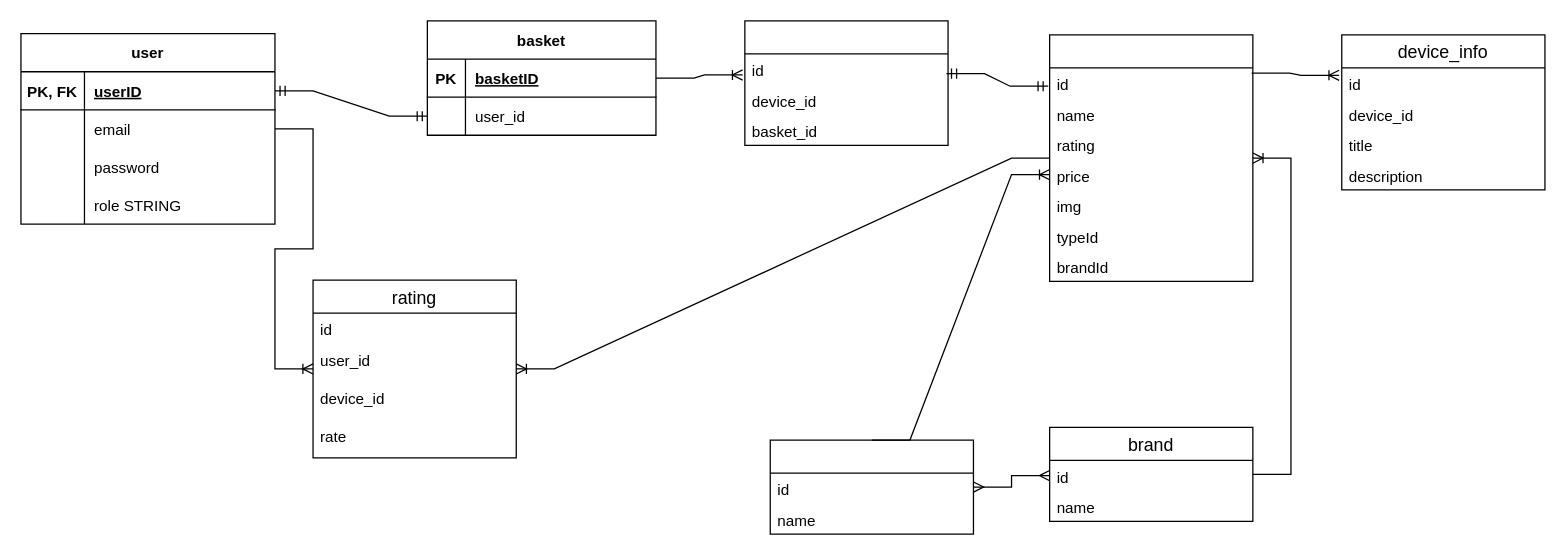
This 1566x555 diagram has some shape labels left out. Each missing label, with the box of its shape:
basket_device: (744, 20, 948, 145)
device: (1048, 34, 1253, 281)
type: (769, 439, 973, 534)
